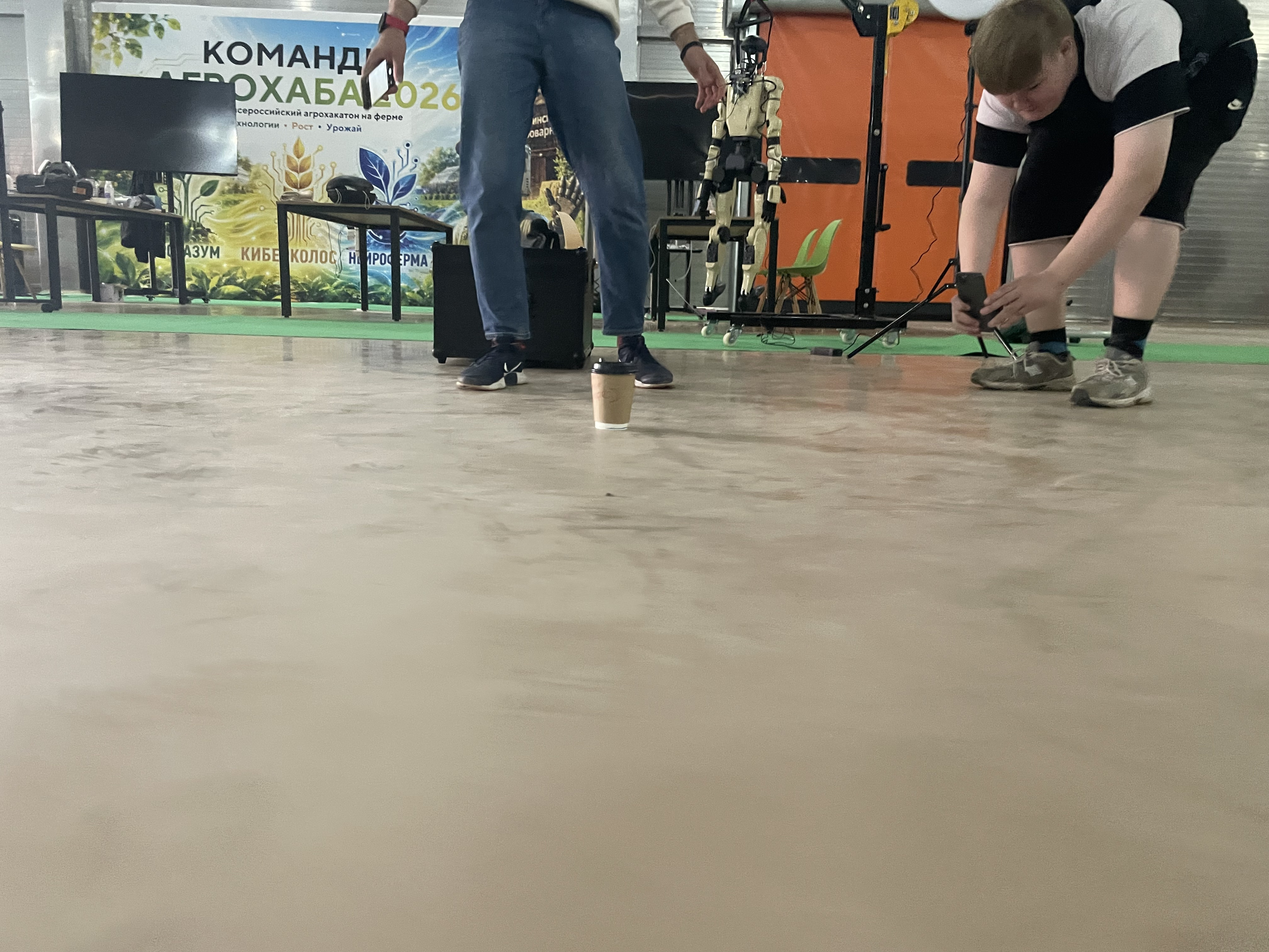cup: (589, 357, 639, 430)
